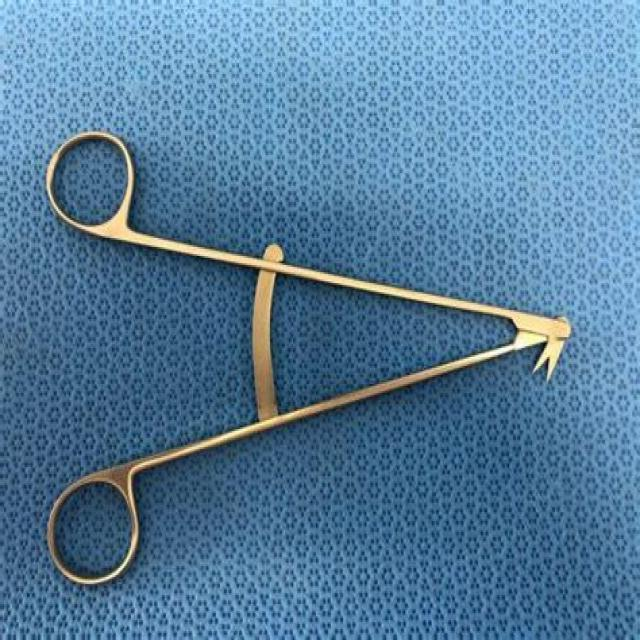Potts: (42, 120, 576, 600)
